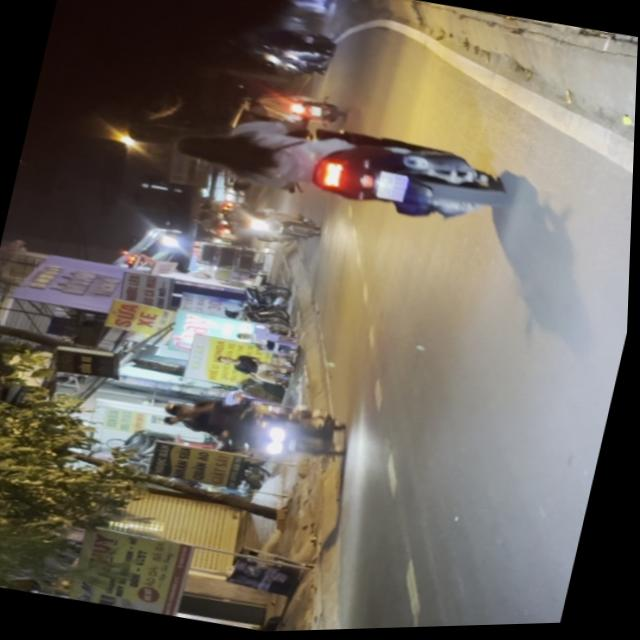licenseplate: (160, 93, 515, 246)
motorcyclist: (170, 128, 241, 174)
nohelmet: (374, 173, 410, 207)
